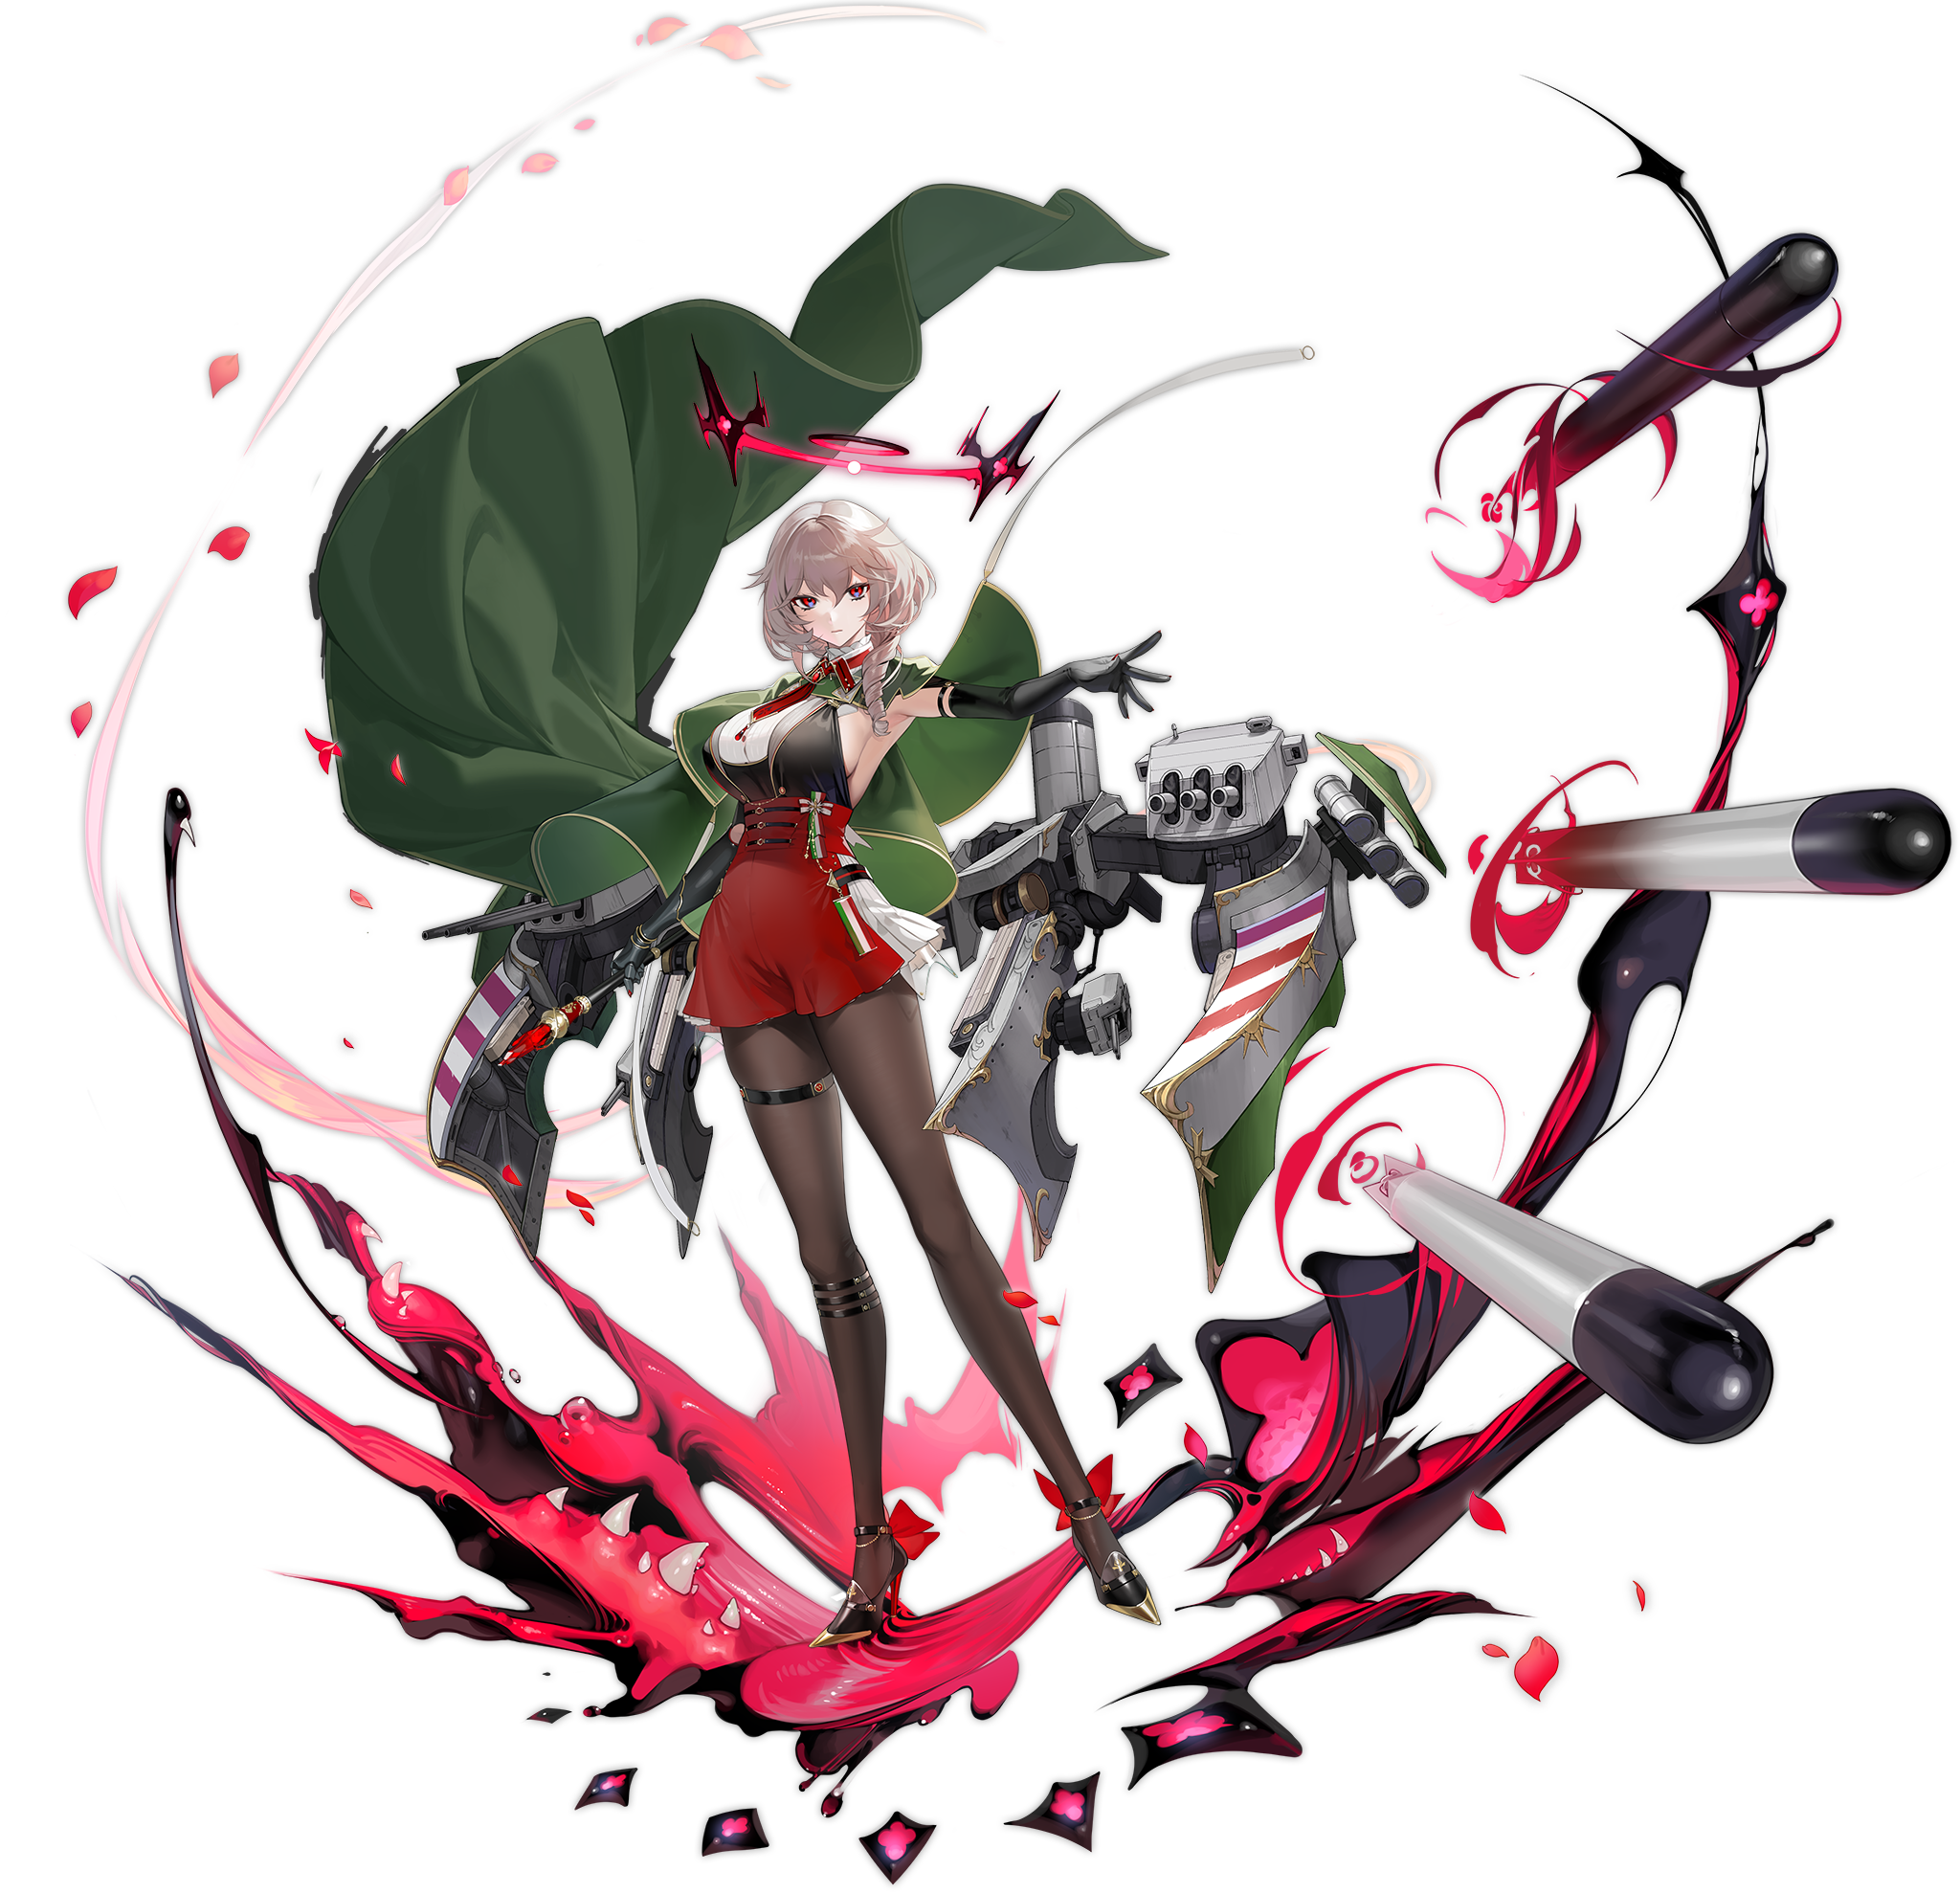person: (635, 505, 1099, 1270)
